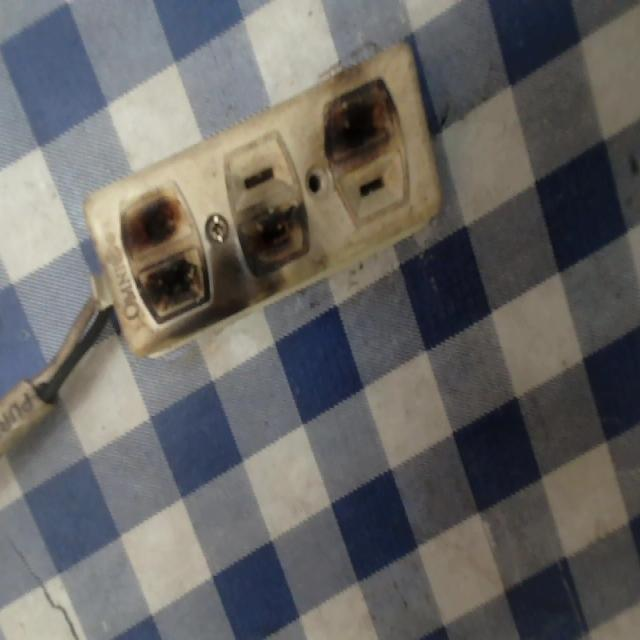-: (113, 178, 211, 326), (310, 78, 407, 174), (234, 197, 319, 284)
